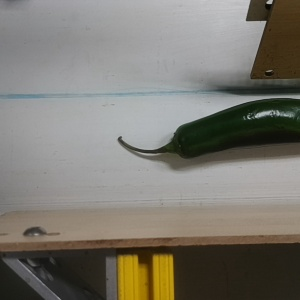Cut Point: (163, 121, 198, 163)
